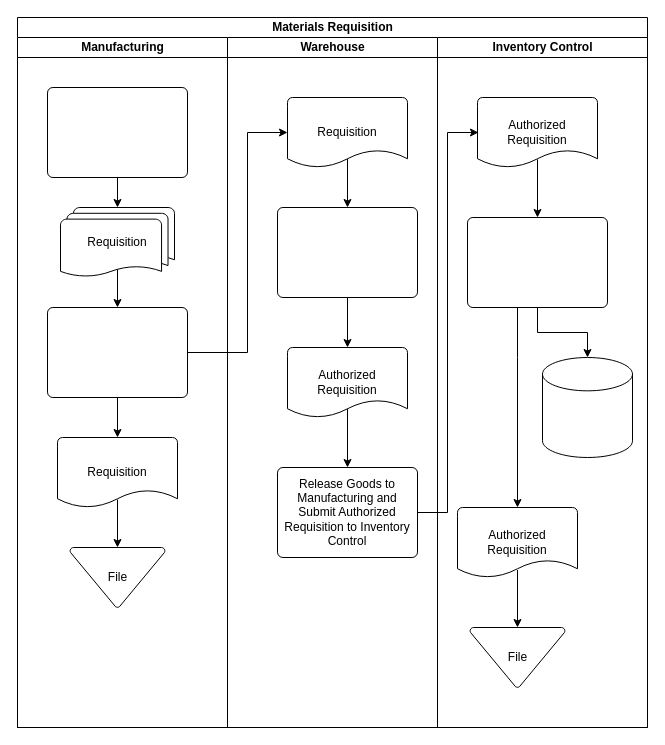
The diagram is 665 pixels wide and 745 high, and some of its shapes have lost their labels. Each missing label, with the centre of its shape:
"Authorize Raw Materials Requisition" belongs at (x=347, y=252).
"File Copy of Requestion and Submit Copy to Warehouse" belongs at (x=117, y=352).
"Inventory" belongs at (x=587, y=407).
"Prepare Multi-copy Raw Materials Requsition" belongs at (x=117, y=132).
"Update Inventory Database and File Authorized Requsition" belongs at (x=537, y=262).
